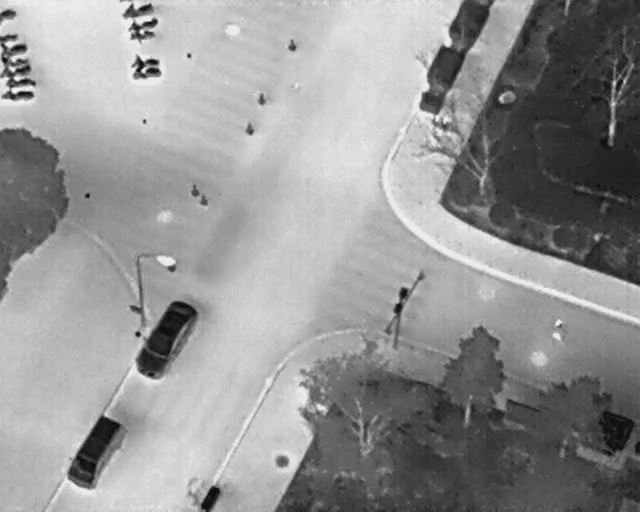Bicycle: (118, 0, 157, 21), (129, 61, 164, 83), (123, 14, 161, 34), (127, 50, 162, 69), (125, 27, 158, 45), (0, 8, 19, 24)
Car: (117, 285, 206, 391), (58, 406, 130, 498)
Person: (430, 113, 442, 134), (553, 317, 565, 334), (442, 115, 451, 136)
